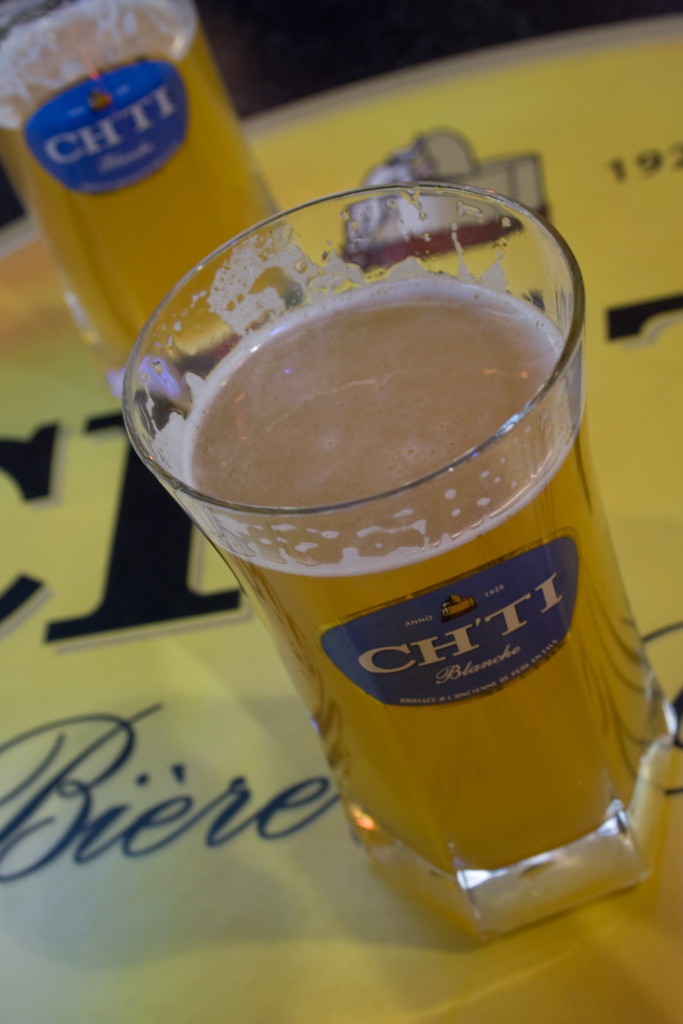Beer: (178, 280, 682, 876)
